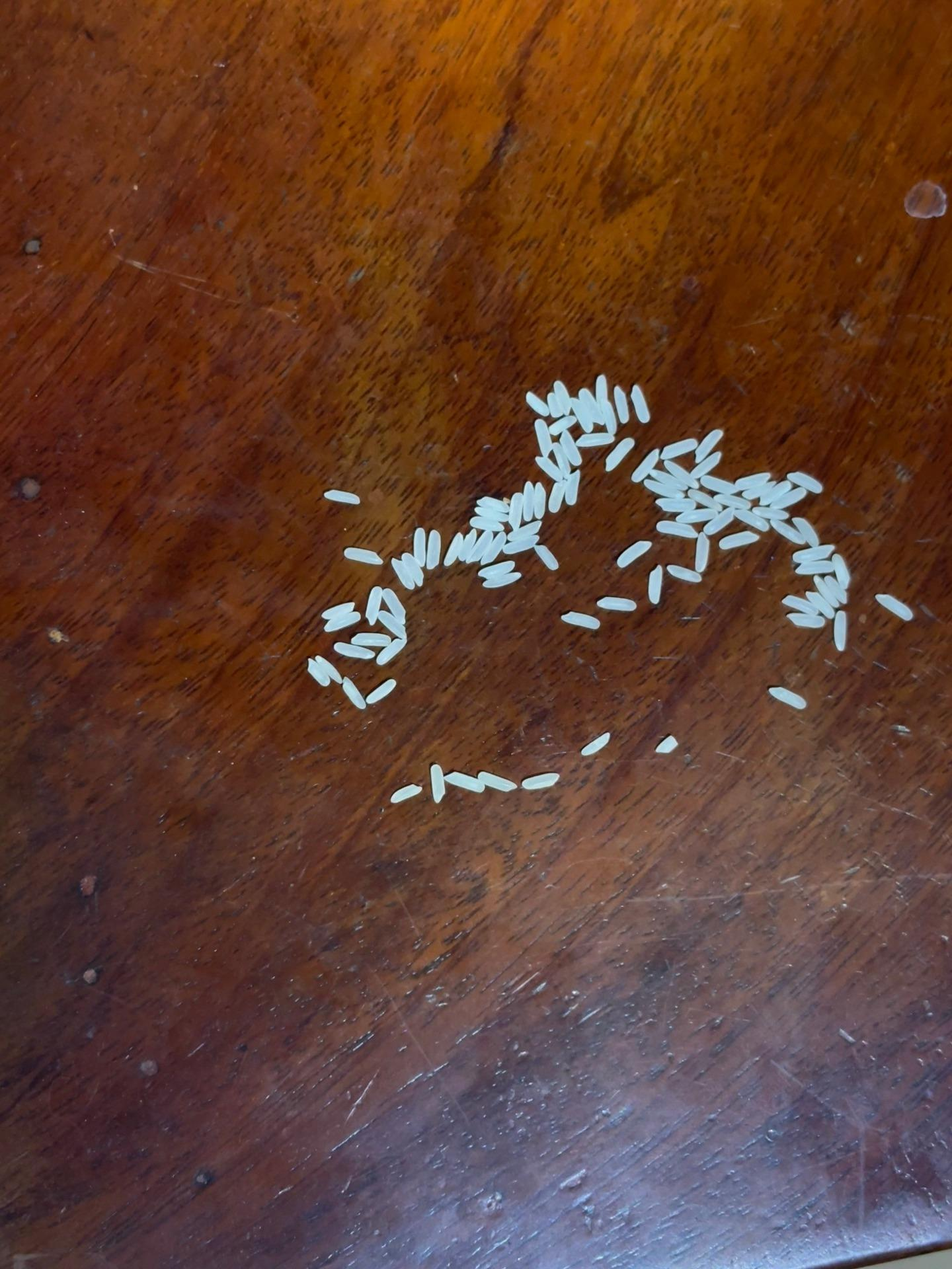Rice-th-y-nh: (631, 449, 660, 484), (694, 429, 723, 463), (876, 594, 913, 620), (605, 438, 634, 471), (616, 541, 652, 567), (579, 389, 605, 425), (663, 460, 696, 488), (770, 519, 805, 545), (704, 507, 735, 536), (467, 531, 494, 564), (690, 452, 722, 479), (378, 611, 407, 640), (445, 772, 485, 793), (793, 517, 820, 548), (769, 687, 807, 709), (383, 589, 406, 625), (482, 532, 507, 565), (376, 638, 406, 665), (787, 471, 822, 494), (559, 430, 582, 465), (760, 481, 792, 506), (771, 487, 807, 509), (806, 591, 834, 619), (688, 488, 722, 511), (478, 772, 517, 792), (719, 530, 758, 550), (793, 544, 834, 563), (734, 509, 769, 531), (342, 678, 366, 710), (391, 558, 415, 590), (783, 595, 819, 616), (651, 469, 687, 490), (316, 655, 342, 684), (571, 399, 593, 433), (814, 576, 838, 607), (643, 479, 682, 498), (334, 642, 375, 660), (402, 553, 424, 586), (367, 679, 396, 704), (325, 612, 361, 632), (661, 439, 697, 459), (656, 496, 696, 514), (631, 386, 650, 423), (535, 456, 563, 481), (504, 535, 539, 555), (700, 475, 735, 495), (831, 555, 851, 590), (656, 521, 697, 538), (509, 521, 542, 542), (581, 733, 611, 756), (562, 611, 600, 629), (552, 443, 572, 477), (824, 575, 848, 603), (478, 561, 515, 579), (483, 572, 522, 589), (734, 472, 770, 490), (345, 547, 383, 564), (787, 612, 825, 629), (307, 659, 330, 687), (458, 529, 478, 561), (677, 508, 717, 524), (667, 565, 702, 583), (564, 470, 582, 505), (715, 494, 752, 511), (535, 420, 552, 457), (429, 765, 446, 802), (412, 528, 428, 567), (743, 481, 774, 501), (523, 773, 559, 790), (444, 534, 463, 566), (390, 784, 422, 803), (366, 587, 382, 625), (695, 533, 710, 573), (351, 632, 391, 647), (833, 611, 848, 651), (532, 482, 548, 519), (548, 481, 566, 513), (535, 545, 558, 570), (796, 560, 834, 575), (597, 597, 637, 611), (509, 493, 524, 530), (576, 432, 613, 447), (648, 566, 663, 603), (426, 531, 441, 568), (526, 392, 549, 416), (477, 496, 509, 513), (322, 602, 354, 619), (753, 506, 789, 521), (614, 387, 629, 423), (470, 516, 503, 532), (554, 382, 571, 413), (549, 416, 575, 436), (601, 402, 617, 434), (325, 490, 360, 504), (523, 482, 535, 519), (474, 507, 505, 521), (547, 393, 562, 418), (655, 736, 677, 753)
